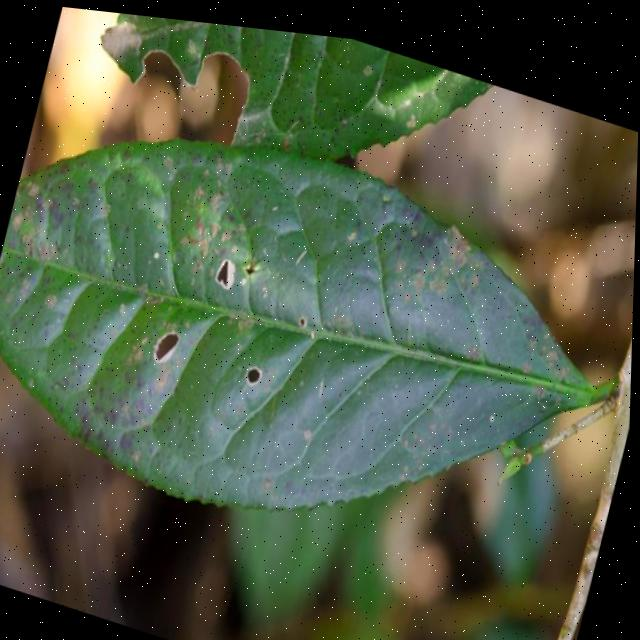Tea algae leaf spot: (0, 96, 537, 570)
